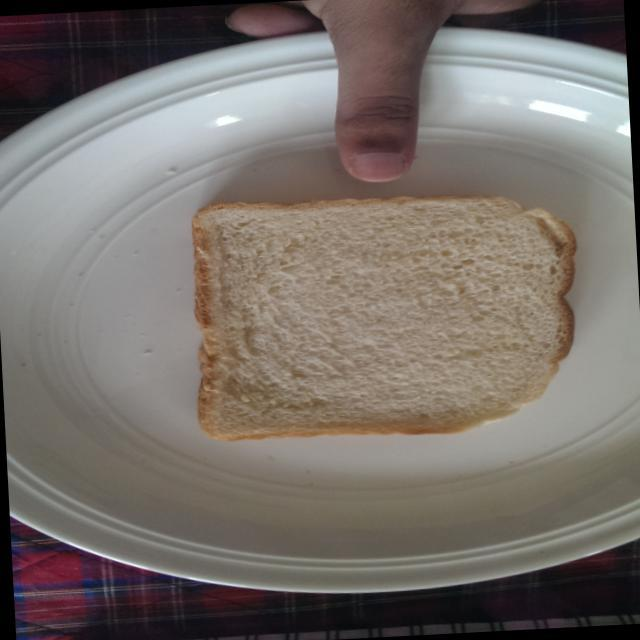Bread: (164, 180, 586, 456)
Finger: (302, 59, 448, 197)
